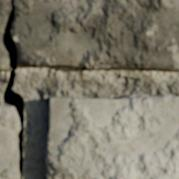brick: (45, 94, 178, 178), (0, 106, 19, 178)
broken_brick: (0, 0, 178, 71), (0, 44, 9, 72)
crack: (0, 2, 24, 176), (57, 61, 71, 65)
